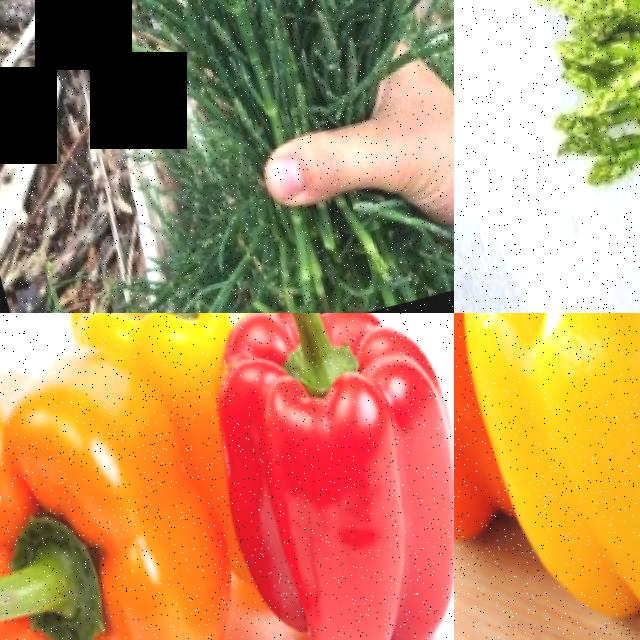asparagus: (574, 82, 640, 197), (567, 37, 640, 131)
bell pepper: (171, 313, 454, 640), (0, 345, 246, 640), (454, 313, 640, 627), (1, 313, 339, 369), (454, 313, 520, 548)
